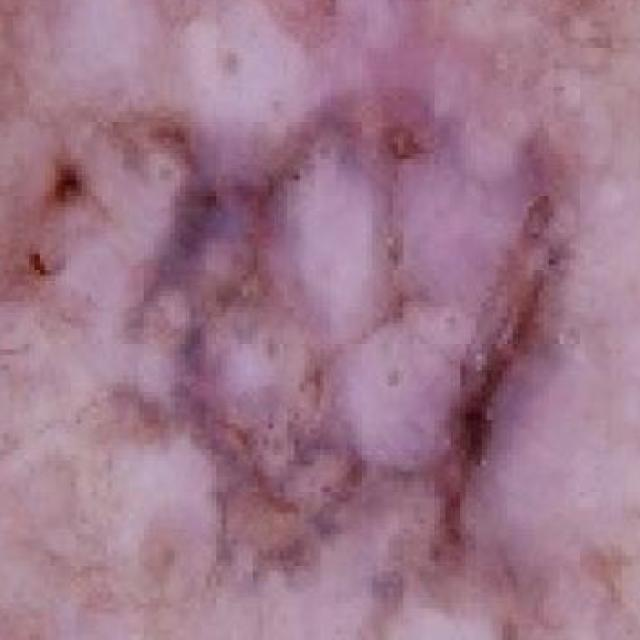AKIEC: (48, 0, 628, 640)
